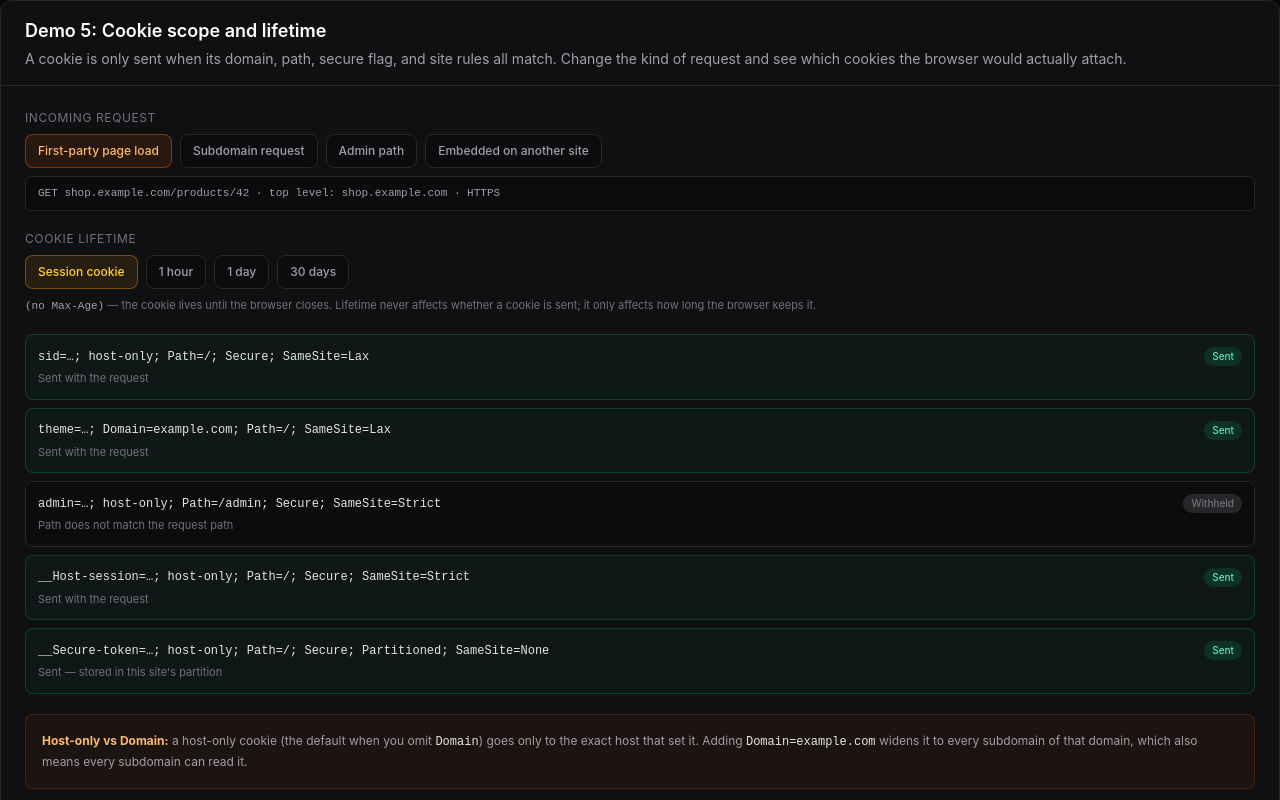
CookieScopeDemo › withholds the host-only cookie from a subdomain request
The width and height of the screenshot is (1280, 800).
Expected: the text "sid=…; host-only; Path=/; Secure; SameSite=Lax" is shown, x1=38 y1=348 x2=369 y2=364
Click the button "Subdomain request": (249,151) x1=180 y1=134 x2=318 y2=168
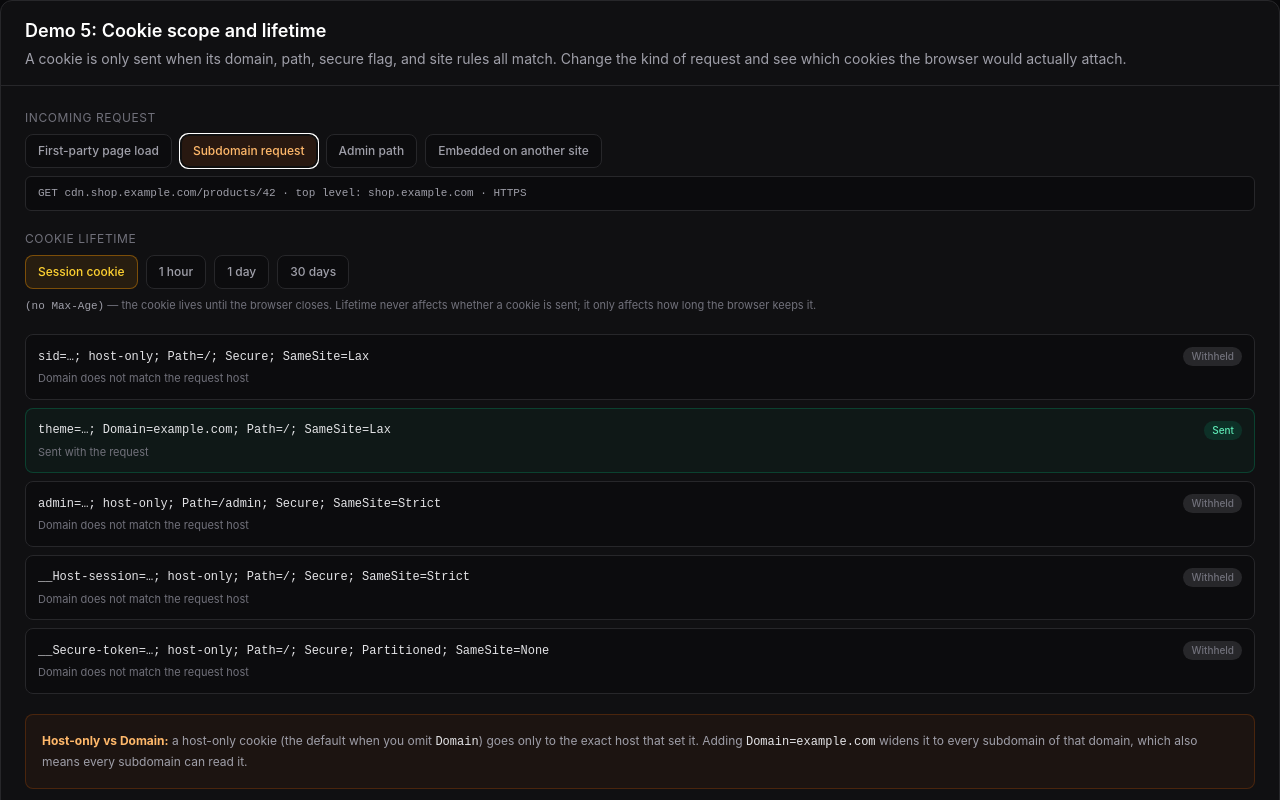
Expected: the 1st text "Withheld" is shown, x1=1183 y1=347 x2=1242 y2=366
